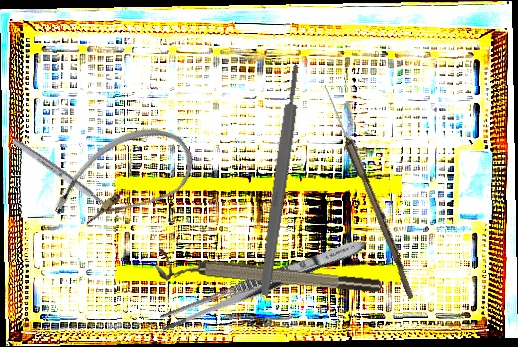Cannula: (41, 106, 206, 258)
Dressing Forceps: (155, 231, 371, 337)
Fixation Ring: (153, 248, 384, 307)
Scalpel Handle: (257, 63, 304, 297)
Surgical Spoon: (319, 83, 419, 300), (11, 136, 126, 222)
